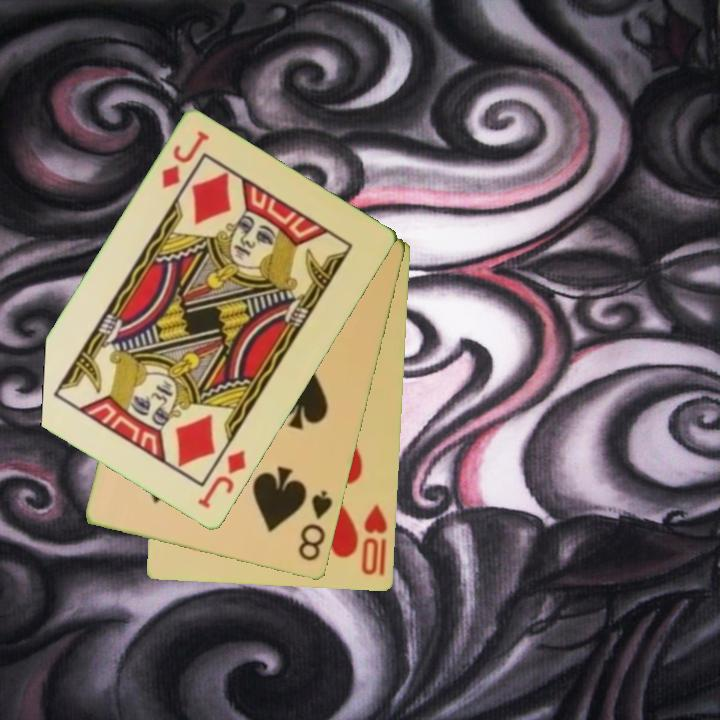10h: (358, 501, 390, 579)
8s: (295, 487, 336, 565)
Jd: (194, 447, 250, 513), (158, 127, 213, 192)
